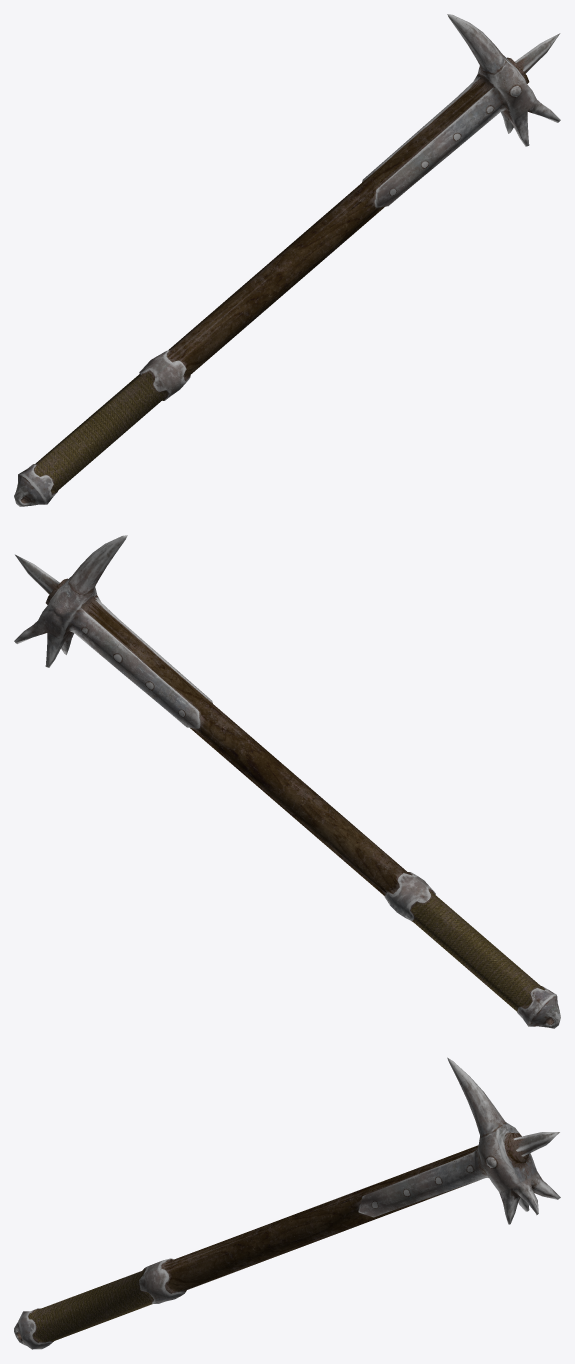
Rendered from whbecdecorbin.glb.
3 views of the same model, one above another, from view 1: azimuth 30°, elevation 25°; view 2: azimuth 150°, elevation 25°; view 3: azimuth 330°, elevation 25° (orthographic).
Visible parts, largest first — view 1: lp; view 2: lp; view 3: lp.
Part boxes in pixels (x1,y1,x2,y2): lp: [14, 14, 560, 506]; lp: [14, 535, 560, 1028]; lp: [14, 1057, 560, 1349].
Bounding box in the file's own units: 468 × 320 × 40.79.
1 material, 1 textured.
